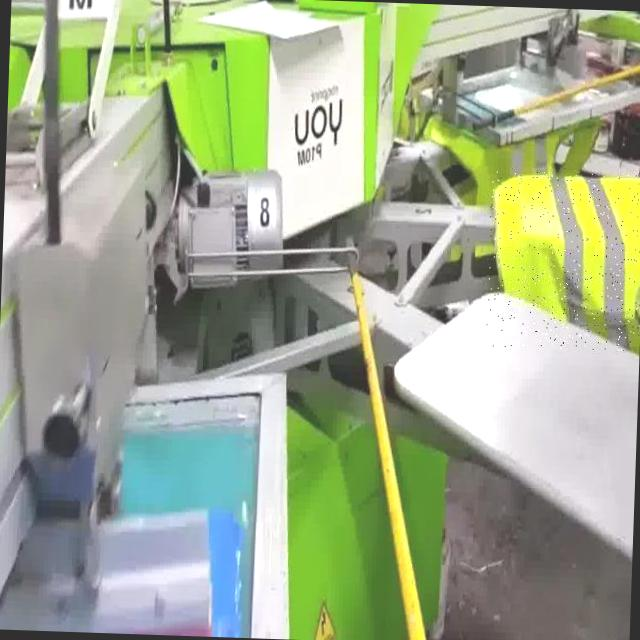vest: (485, 170, 640, 351)
